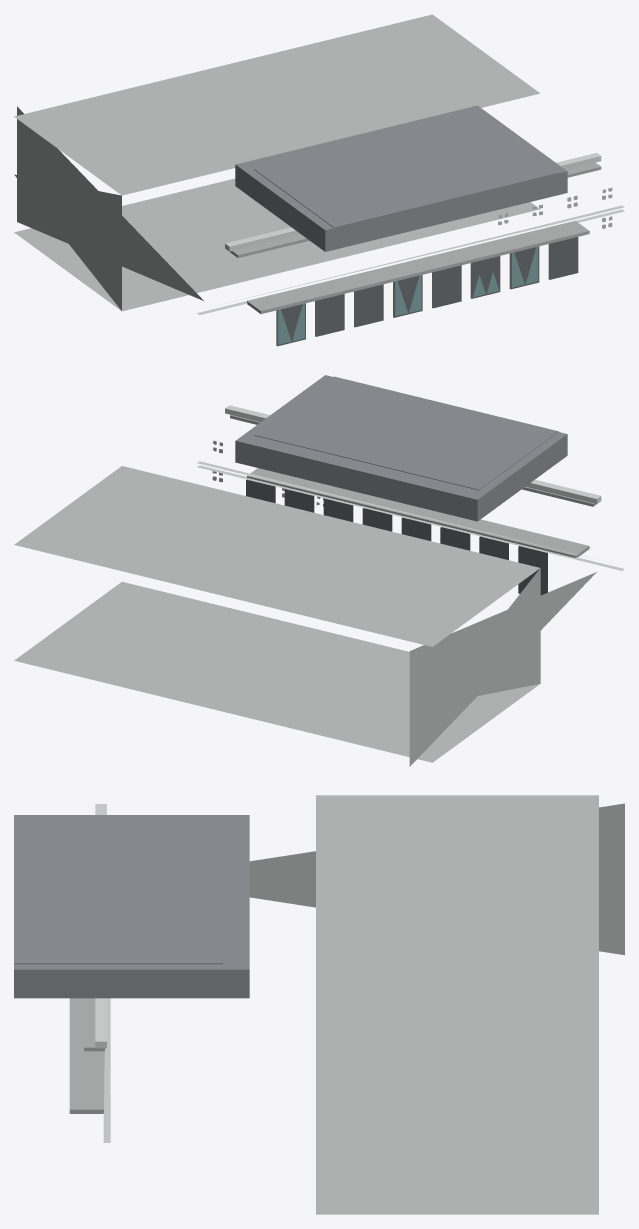
File: buildings-5-medium.glb
The picture shows the model from 3 angles, top to bottom: view 1: azimuth 30°, elevation 25°; view 2: azimuth 150°, elevation 25°; view 3: azimuth 270°, elevation 25°; orthographic projection. The views are drawn at different scales.
Parts seen in each view (by area): view 1: 北区食堂 · Canteen grey panel.001, 北区食堂 · Canteen roof metal.001, 北区食堂 · Canteen dark frame.001, 北区食堂 · Canteen canopy soffit.001, 北区食堂 · Canteen glazing.001, 北区食堂 · Canteen pale trim.001, 北区食堂 · Canteen roof rail.001; view 2: 北区食堂 · Canteen grey panel.001, 北区食堂 · Canteen roof metal.001, 北区食堂 · Canteen canopy soffit.001, 北区食堂 · Canteen dark frame.001, 北区食堂 · Canteen pale trim.001, 北区食堂 · Canteen roof rail.001; view 3: 北区食堂 · Canteen grey panel.001, 北区食堂 · Canteen roof metal.001, 北区食堂 · Canteen canopy soffit.001, 北区食堂 · Canteen pale trim.001, 北区食堂 · Canteen roof rail.001.
Part boxes in pixels (x1,y1,x2,y2): 北区食堂 · Canteen grey panel.001: [14, 14, 540, 311]; 北区食堂 · Canteen roof metal.001: [235, 105, 567, 251]; 北区食堂 · Canteen dark frame.001: [276, 237, 578, 346]; 北区食堂 · Canteen canopy soffit.001: [230, 162, 601, 313]; 北区食堂 · Canteen glazing.001: [278, 246, 538, 344]; 北区食堂 · Canteen pale trim.001: [197, 205, 624, 315]; 北区食堂 · Canteen roof rail.001: [225, 153, 601, 251]; 北区食堂 · Canteen grey panel.001: [14, 466, 596, 766]; 北区食堂 · Canteen roof metal.001: [235, 375, 567, 521]; 北区食堂 · Canteen canopy soffit.001: [230, 415, 597, 557]; 北区食堂 · Canteen dark frame.001: [246, 480, 547, 595]; 北区食堂 · Canteen pale trim.001: [197, 461, 624, 570]; 北区食堂 · Canteen roof rail.001: [225, 405, 601, 503]; 北区食堂 · Canteen grey panel.001: [249, 795, 624, 1214]; 北区食堂 · Canteen roof metal.001: [14, 815, 249, 998]; 北区食堂 · Canteen canopy soffit.001: [69, 998, 104, 1113]; 北区食堂 · Canteen pale trim.001: [103, 998, 110, 1142]; 北区食堂 · Canteen roof rail.001: [95, 804, 106, 1048].
Bounding box in the file's own units: 49.2 × 15.97 × 46.68.
